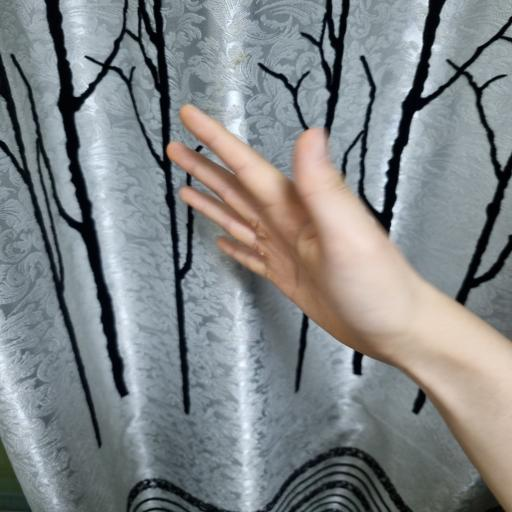Paper: (166, 104, 460, 372)
